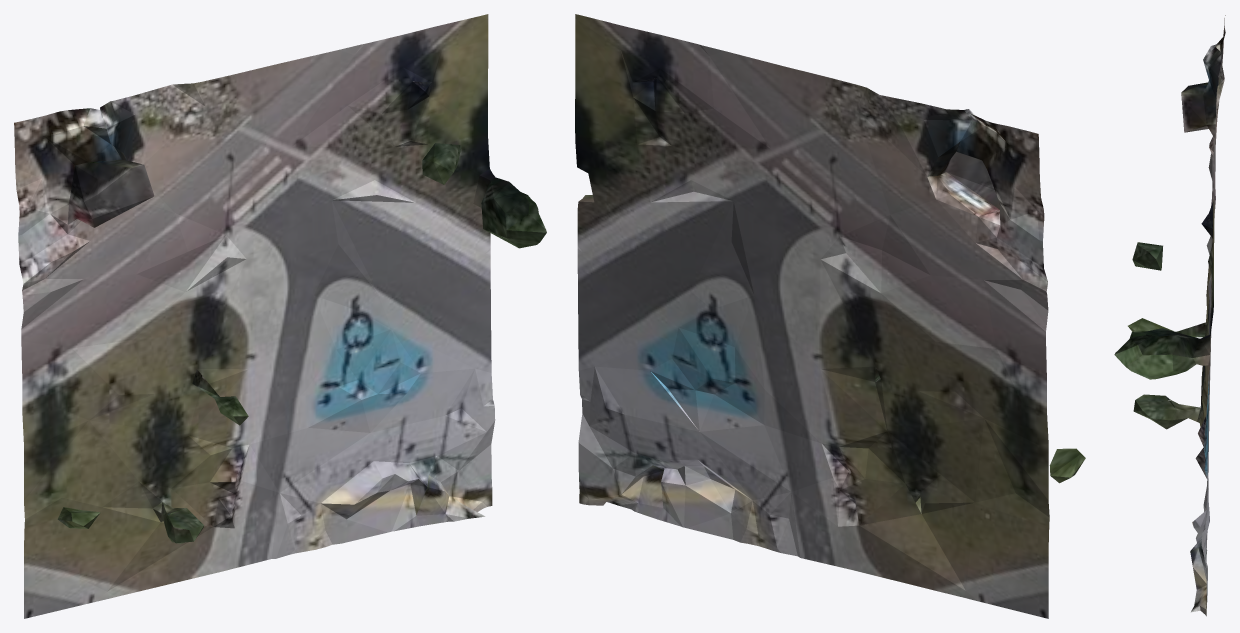
The model's file is Tile_+032_+024_L19_000102.obj.
3 views of the same model, side by side, from view 1: azimuth 30°, elevation 25°; view 2: azimuth 150°, elevation 25°; view 3: azimuth 270°, elevation 25° (orthographic). The views are drawn at different scales.
Size of the model in its own units: 31.75 by 31.75 by 7.76.
1 material, 1 textured.
